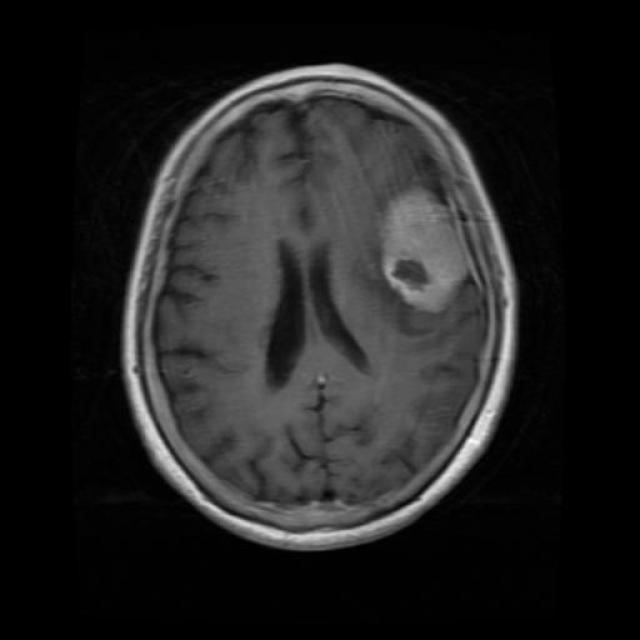meningioma: (382, 184, 466, 309)
